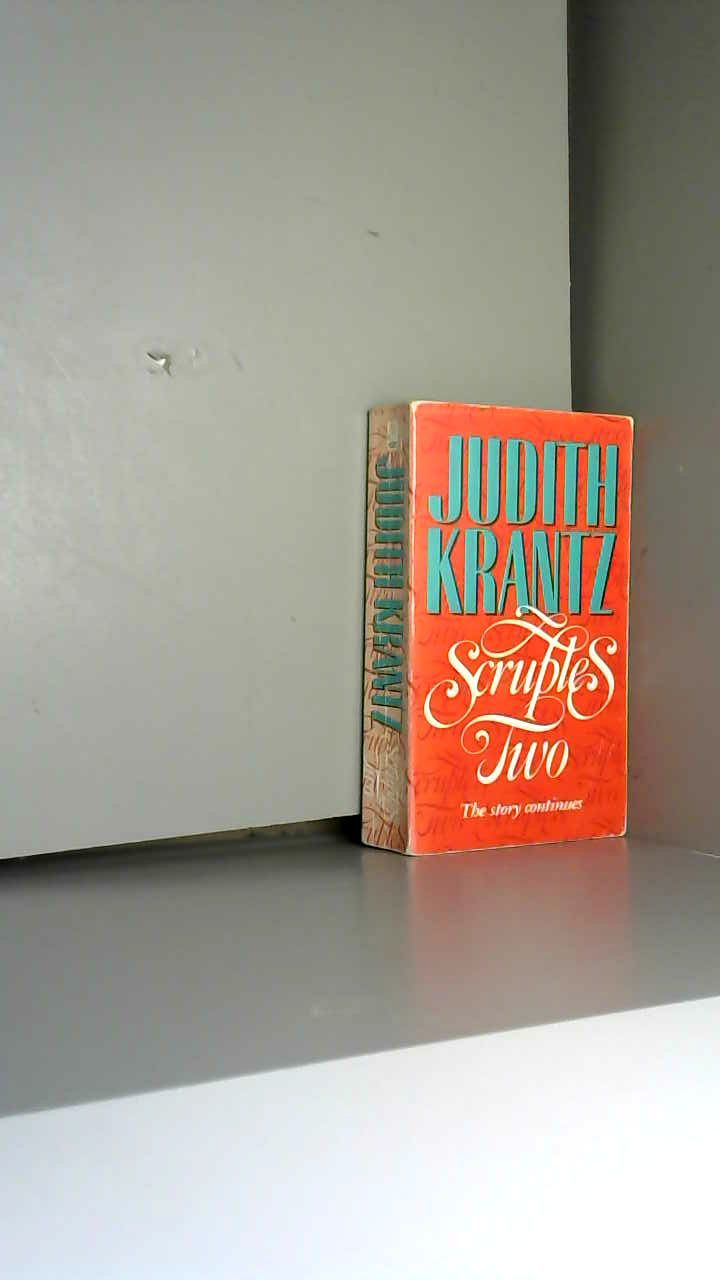book: (330, 370, 720, 938)
